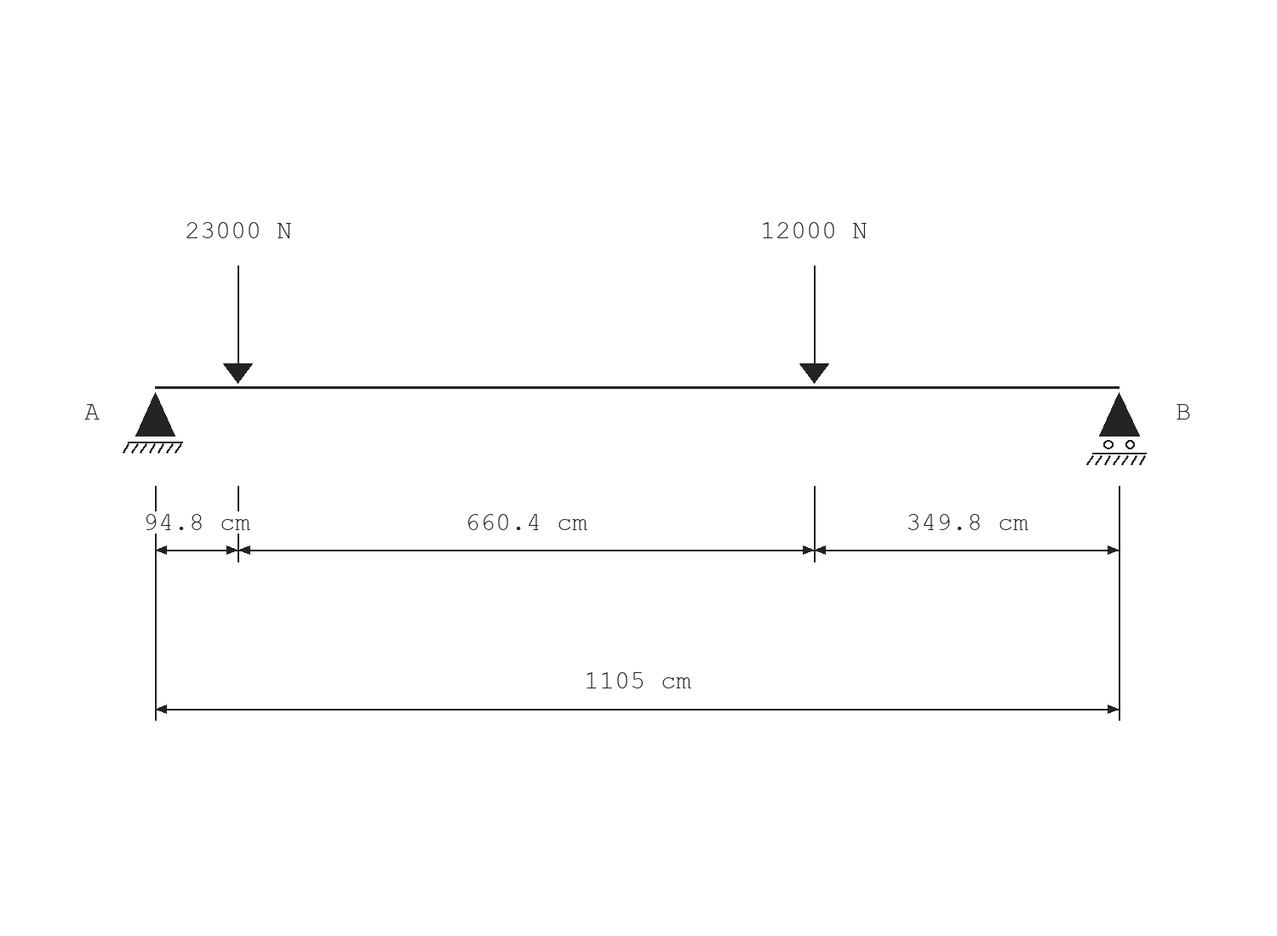pin_support: (123, 392, 183, 454)
point_load: (223, 265, 253, 384), (799, 265, 829, 384)
roller_support: (1086, 392, 1147, 465)
